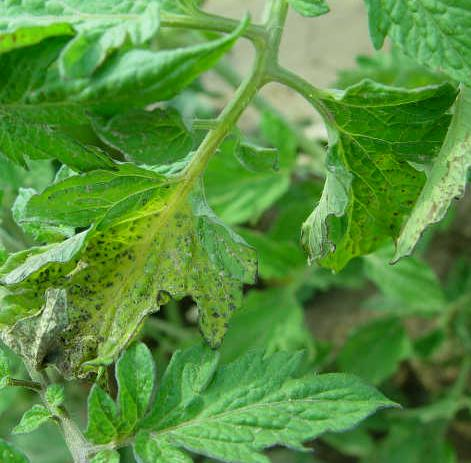Tomato leaf bacterial spot: (0, 146, 259, 390), (284, 50, 471, 308), (67, 325, 400, 463)
